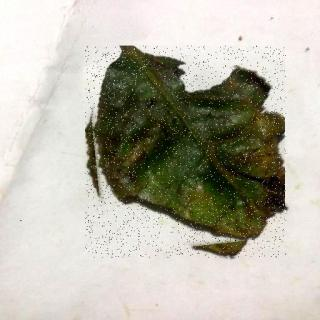Red Leaf Spot: (87, 47, 288, 259)
